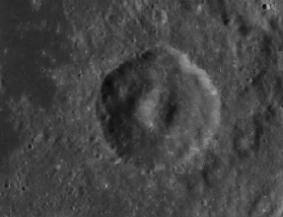crater: (73, 36, 235, 199)
